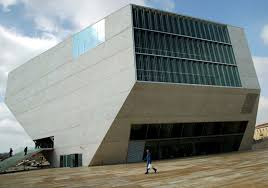musica: (4, 4, 260, 168)
